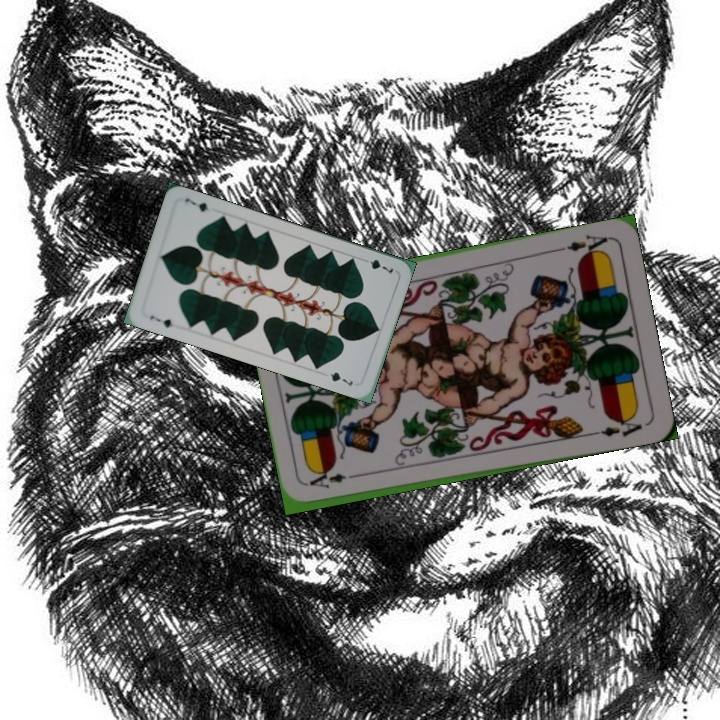EA: (554, 230, 612, 259), (305, 469, 363, 492)
G7: (358, 255, 396, 276), (146, 311, 175, 330)
